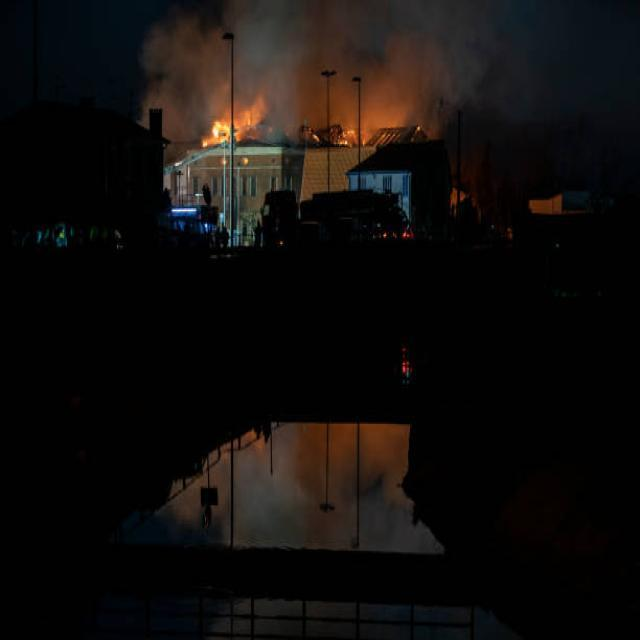Fire: (202, 80, 298, 144), (336, 116, 367, 152)
Smoke: (191, 7, 448, 117)
